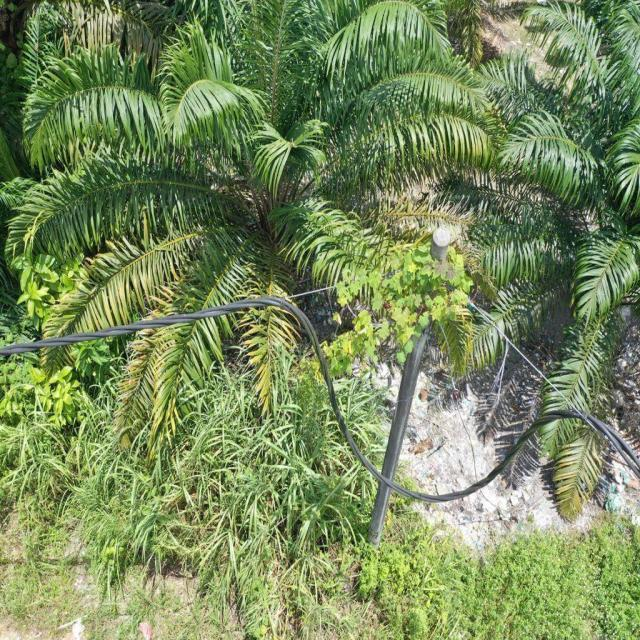critical vegetation: (306, 234, 479, 388)
